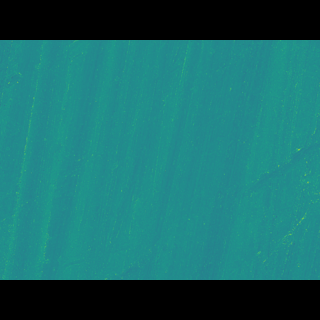Loch: (36, 143, 320, 244)
